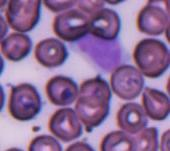L: (75, 32, 128, 74)
